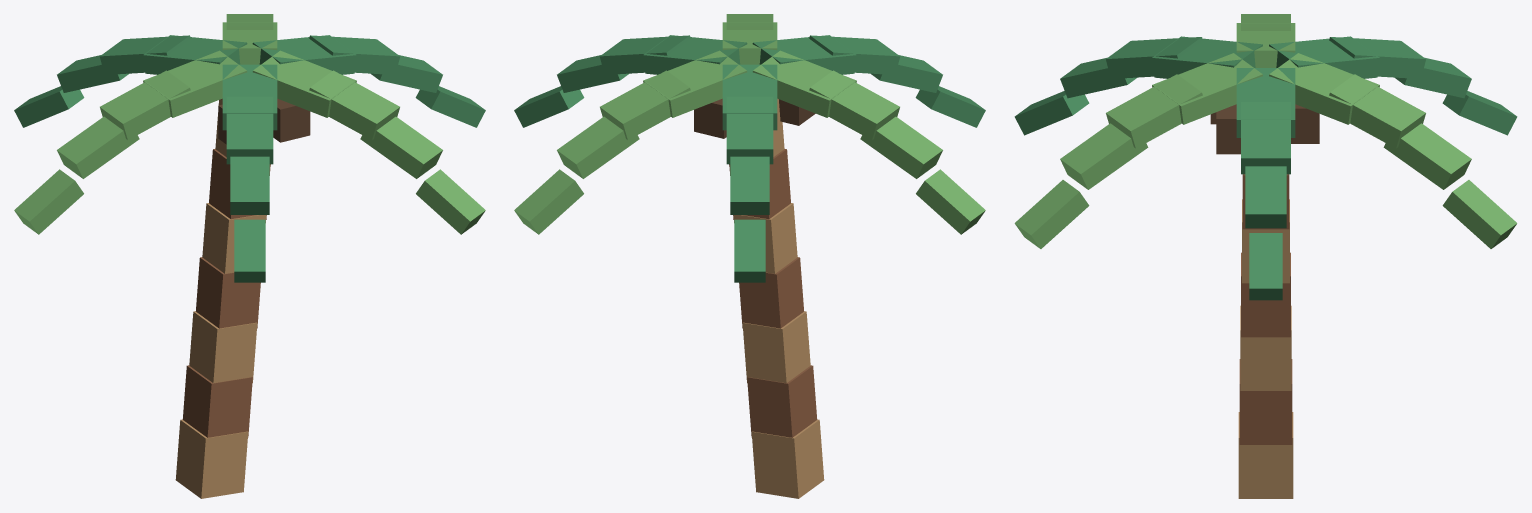
File: palm.gltf
3 renders of one model, left to right at view 1: azimuth 30°, elevation 25°; view 2: azimuth 150°, elevation 25°; view 3: azimuth 270°, elevation 25°, orthographic. The views are drawn at different scales.
Visible parts, largest first — view 1: palm; view 2: palm; view 3: palm.
Part boxes in pixels (x1=…): palm: x1=14, y1=14, x2=485, y2=498; palm: x1=514, y1=14, x2=985, y2=498; palm: x1=1014, y1=14, x2=1517, y2=498.
Size of the model in its own units: 2.89 by 2.55 by 2.59.
